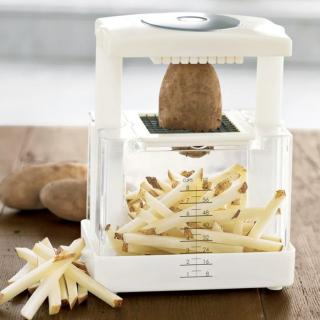French fries: (106, 164, 288, 254), (5, 242, 119, 308)
Potato: (105, 168, 284, 252), (0, 236, 123, 320), (155, 59, 227, 137), (0, 161, 88, 211), (40, 180, 86, 222)
